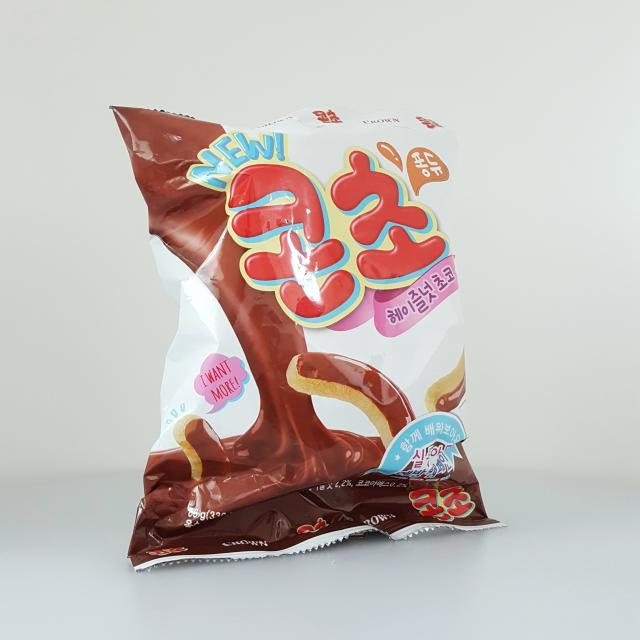-66G: (110, 104, 508, 573)
